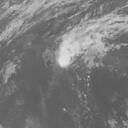cyclone: (55, 9, 122, 71)
